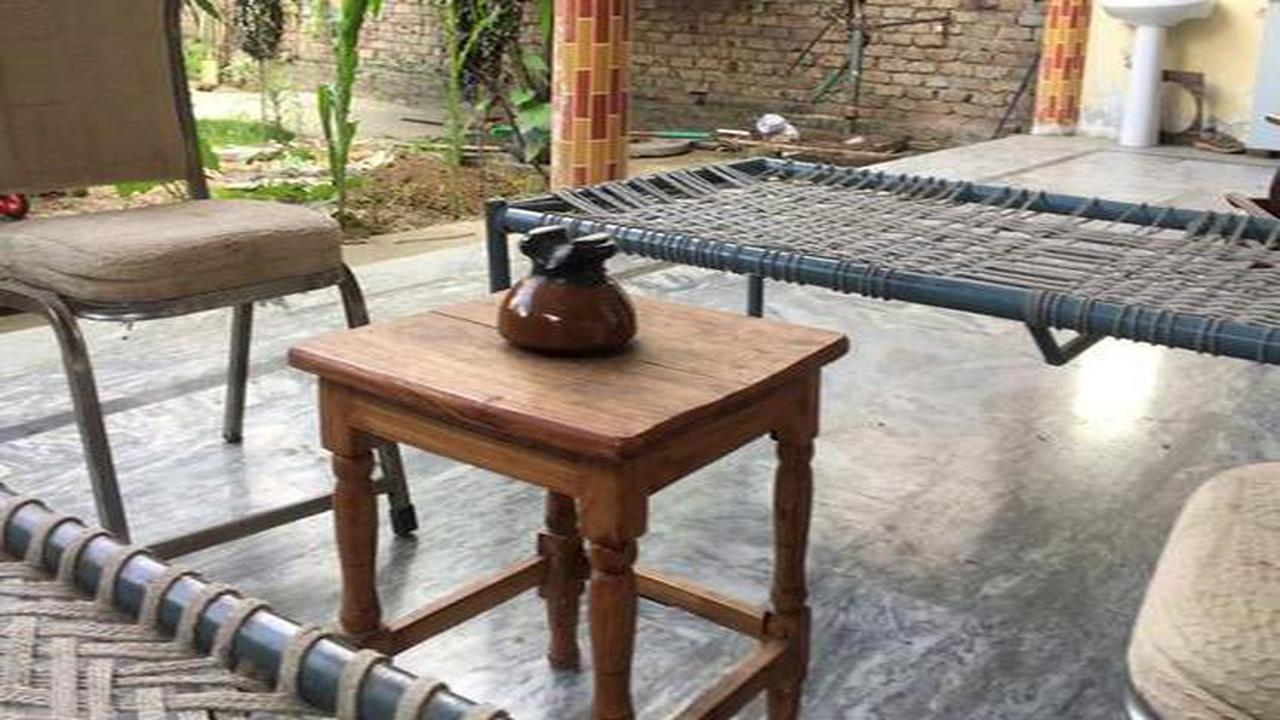insulator_pin: (474, 217, 665, 374)
